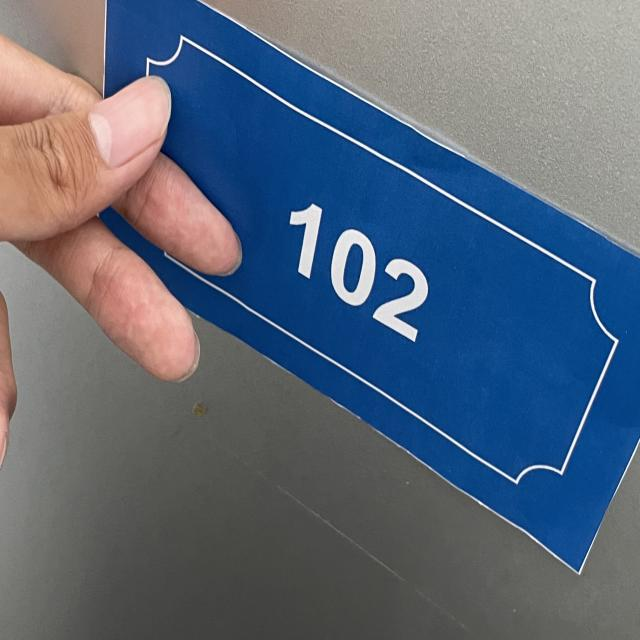Card: (89, 0, 640, 622)
